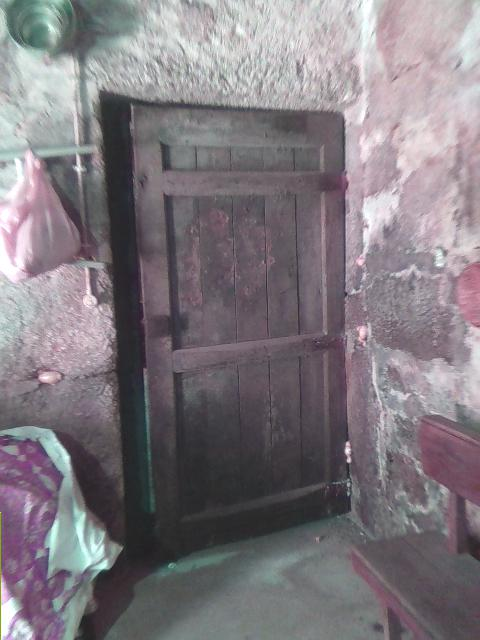closed_door: (98, 88, 344, 546)
